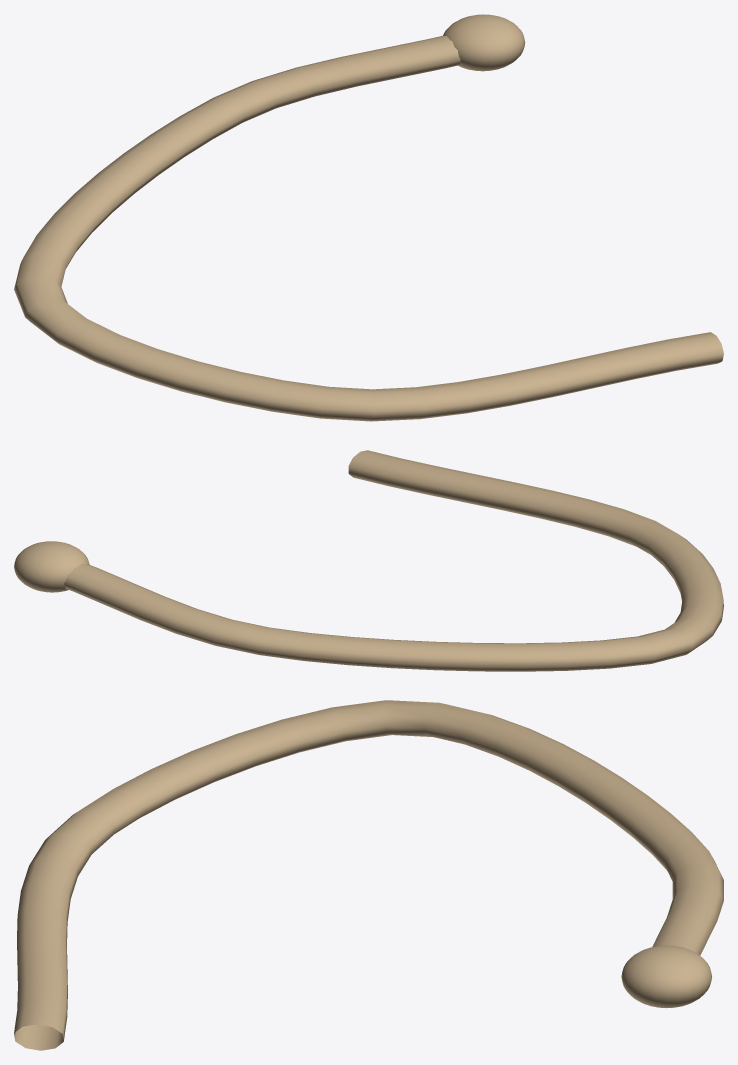
Rendered from right_rib_5.glb.
The picture shows the model from 3 angles, top to bottom: view 1: azimuth 30°, elevation 25°; view 2: azimuth 150°, elevation 25°; view 3: azimuth 270°, elevation 25°; orthographic projection. The views are drawn at different scales.
Visible parts, largest first — view 1: right_rib_5:costal-body, right_rib_5:head; view 2: right_rib_5:costal-body, right_rib_5:head; view 3: right_rib_5:costal-body, right_rib_5:head.
Boxes of the visible parts, x1,y1,x2,y2 form: right_rib_5:costal-body: (14, 35, 723, 421); right_rib_5:head: (443, 14, 525, 71); right_rib_5:costal-body: (64, 450, 723, 671); right_rib_5:head: (14, 541, 89, 592); right_rib_5:costal-body: (14, 700, 723, 1050); right_rib_5:head: (621, 945, 711, 1008).
Bounding box in the file's own units: 0.4481 × 0.081 × 0.405.
